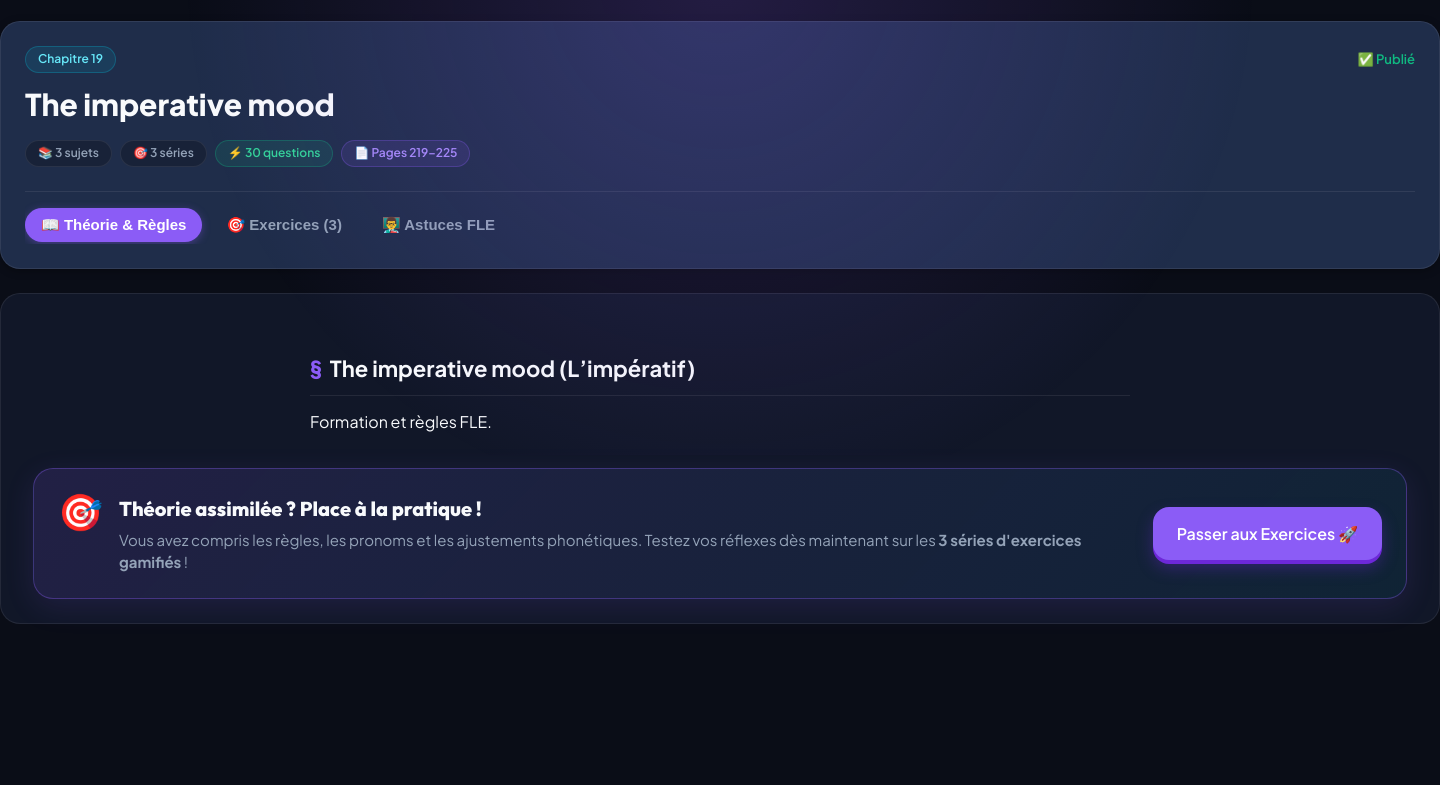
Test: ChapterPage Component › affiche les astuces FLE pédagogiques du chapitre 19 pour l'impératif et les verbes pronominaux
The image size is (1440, 785).
expect the heading "The imperative mood" is shown: met, box [25,85,335,123]
What coordinates should you click on to do the following:
click the tab "👨‍🏫 Astuces FLE"
I would click on:
 (438, 225)
Its box is [366,208,511,242].
(page scrolled)
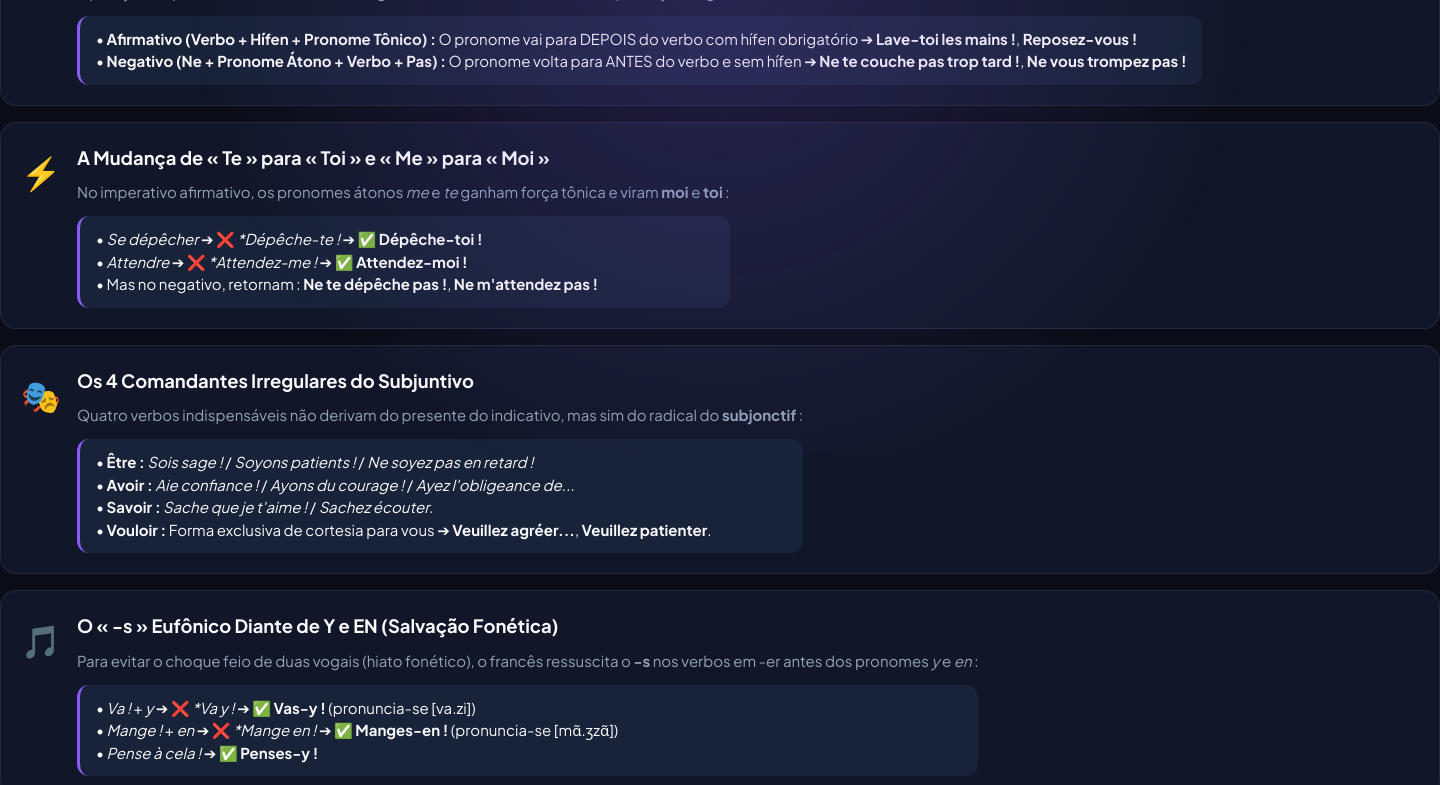
expect the heading "Os 4 Comandantes Irregulares do Subjuntivo" is shown: met, box [77,369,474,392]
